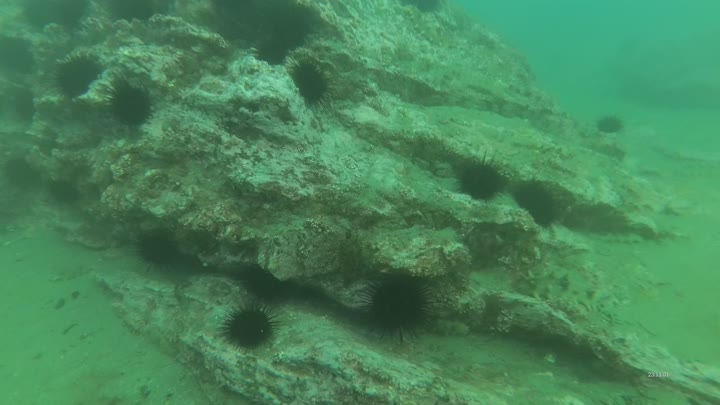echinus: (362, 272, 446, 349), (217, 301, 288, 354), (451, 149, 512, 203), (286, 53, 340, 112), (234, 261, 299, 307), (107, 80, 160, 132), (130, 227, 185, 275), (516, 175, 562, 232), (56, 54, 106, 101), (20, 1, 89, 32), (1, 34, 41, 85), (252, 33, 297, 69), (4, 85, 39, 130), (103, 1, 163, 27), (2, 157, 40, 193), (48, 179, 84, 211), (596, 112, 628, 136)
holothurian: (516, 268, 621, 314), (586, 228, 649, 247)
